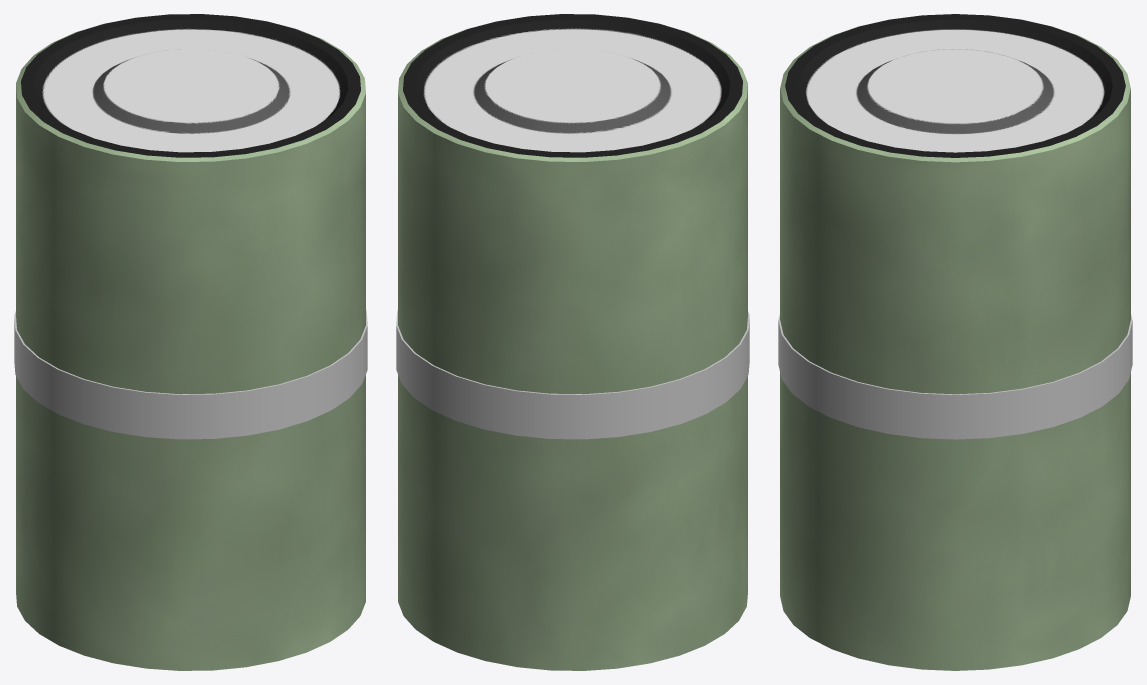
Rendered from hangar-extension.fbx.
3 renders of one model, left to right at view 1: azimuth 30°, elevation 25°; view 2: azimuth 150°, elevation 25°; view 3: azimuth 270°, elevation 25°, orthographic.
Parts seen in each view (by area): view 1: hangar-extension, stripe; view 2: hangar-extension, stripe; view 3: hangar-extension, stripe.
Part boxes in pixels (bbox=[...]): hangar-extension: bbox=[16, 14, 365, 670]; stripe: bbox=[14, 310, 367, 439]; hangar-extension: bbox=[398, 14, 747, 670]; stripe: bbox=[396, 310, 749, 439]; hangar-extension: bbox=[780, 14, 1130, 670]; stripe: bbox=[778, 314, 1132, 439].
Size of what is drawn, in the model's own units: 2.53 by 4.03 by 2.53.
Materials: 2 (1 with a texture image).
